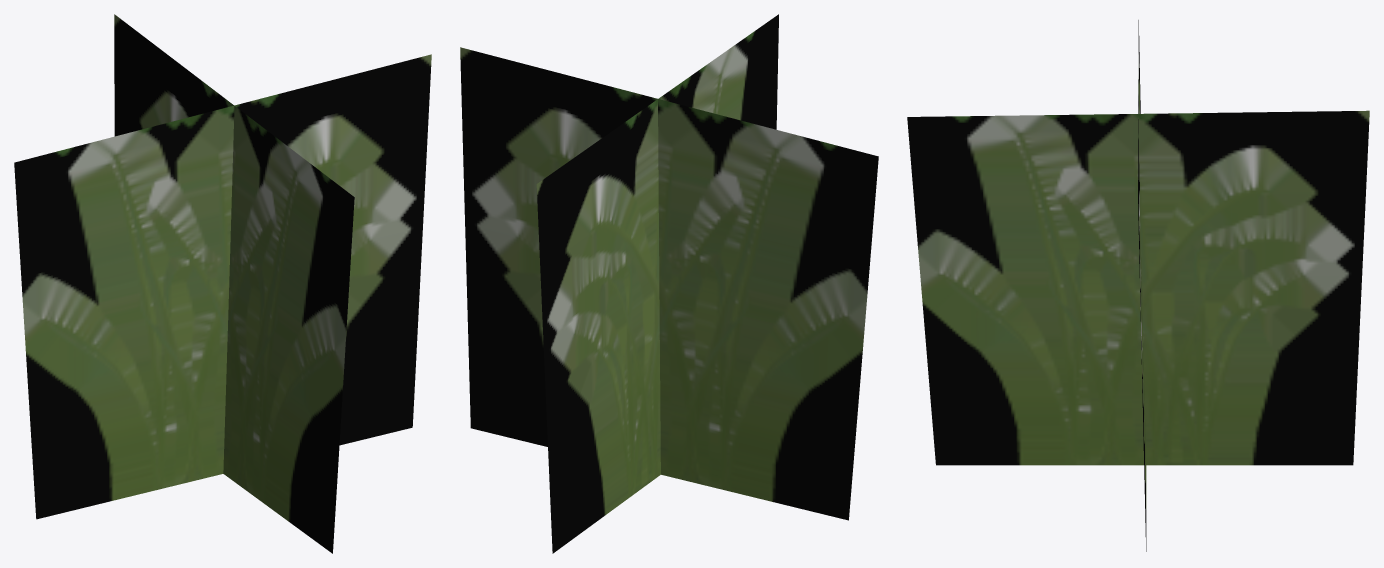
File: SM_EastLands_AmurSilvergrass_04.fbx
3 views of the same model, side by side, from view 1: azimuth 30°, elevation 25°; view 2: azimuth 150°, elevation 25°; view 3: azimuth 270°, elevation 25° (orthographic). The views are drawn at different scales.
Parts seen in each view (by area): view 1: SM_EastLands_AmurSilvergrass_04_LOD2; view 2: SM_EastLands_AmurSilvergrass_04_LOD2; view 3: SM_EastLands_AmurSilvergrass_04_LOD2.
Boxes of the visible parts, left/top/right/bottom form: SM_EastLands_AmurSilvergrass_04_LOD2: left=14, top=14, right=431, bottom=553; SM_EastLands_AmurSilvergrass_04_LOD2: left=460, top=14, right=878, bottom=553; SM_EastLands_AmurSilvergrass_04_LOD2: left=907, top=20, right=1369, bottom=551.
Size of the model in its own units: 174 by 148 by 174.
